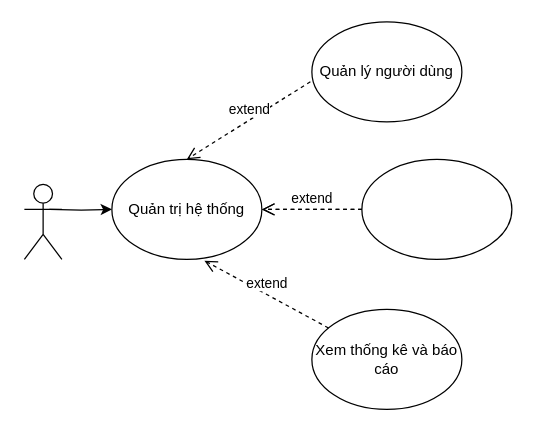
Image size: 534x431. Some labels were removed from this diagram. Here are the shapes that lost their labels. From the top down, the centre of each, then its label:
point 42,221: Admin
point 436,208: Quản lý buffet(CRUD)
